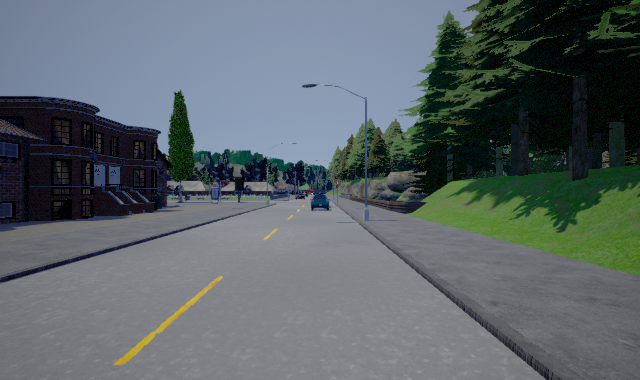vehicle: (310, 191, 330, 210)
